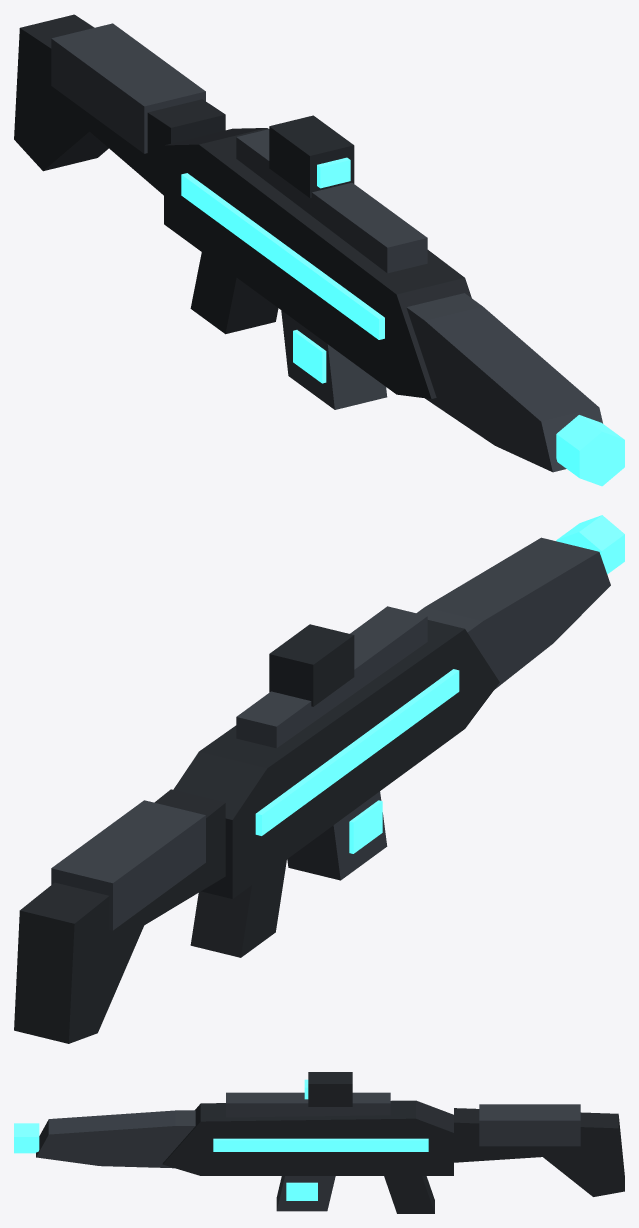
File: item_linked_carbine.glb
3 views of the same model, one above another, from view 1: azimuth 30°, elevation 25°; view 2: azimuth 150°, elevation 25°; view 3: azimuth 270°, elevation 25° (orthographic). The views are drawn at different scales.
Visible parts, largest first — view 1: linked_carbine; view 2: linked_carbine; view 3: linked_carbine.
Boxes of the visible parts, x1,y1,x2,y2 form: linked_carbine: [14, 14, 624, 486]; linked_carbine: [14, 515, 624, 1043]; linked_carbine: [14, 1072, 624, 1213].
Size of the model in its own units: 0.08 by 0.225 by 0.965.
